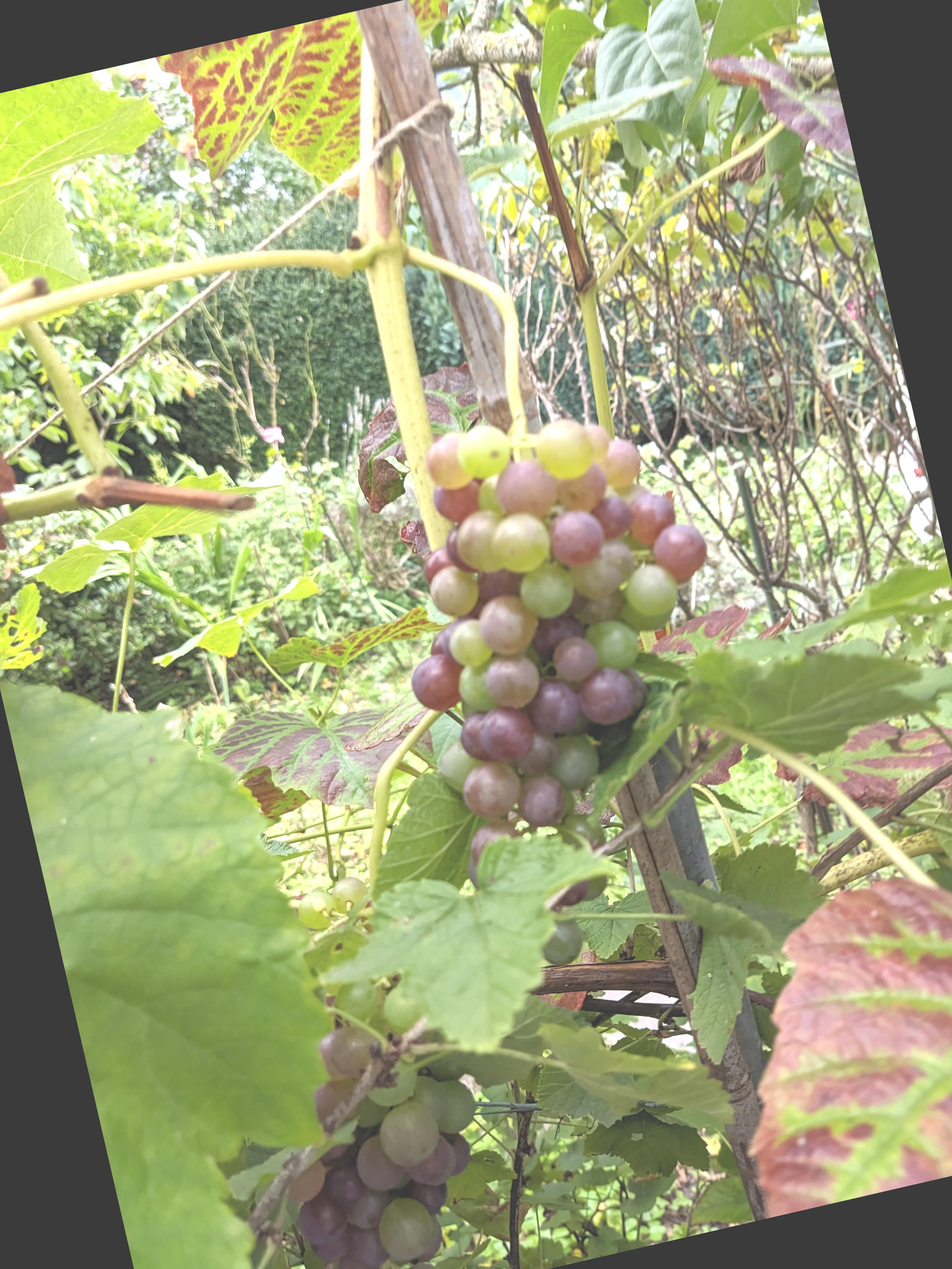Grape Unripe: (232, 493, 666, 1103), (85, 975, 388, 1269)
